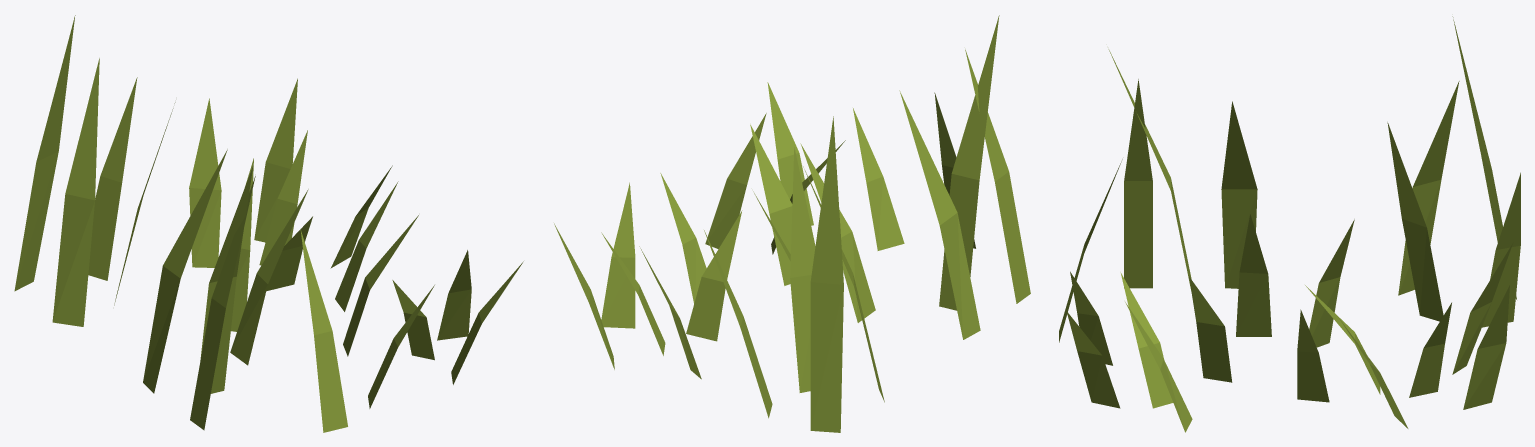
3 views of the same model, side by side, from view 1: azimuth 30°, elevation 25°; view 2: azimuth 150°, elevation 25°; view 3: azimuth 270°, elevation 25° (orthographic).
Bounding box in the file's own units: 96 × 89 × 128.
1 material, 1 textured.
